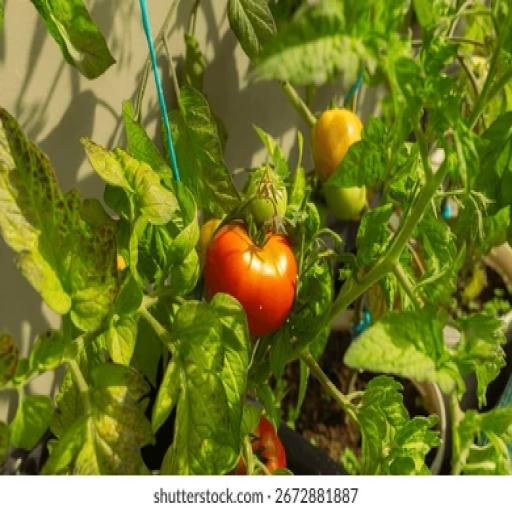tomato: (204, 222, 296, 336), (312, 108, 362, 181), (246, 169, 287, 224), (251, 416, 286, 473), (323, 185, 366, 219), (199, 218, 220, 266), (117, 255, 127, 272)
